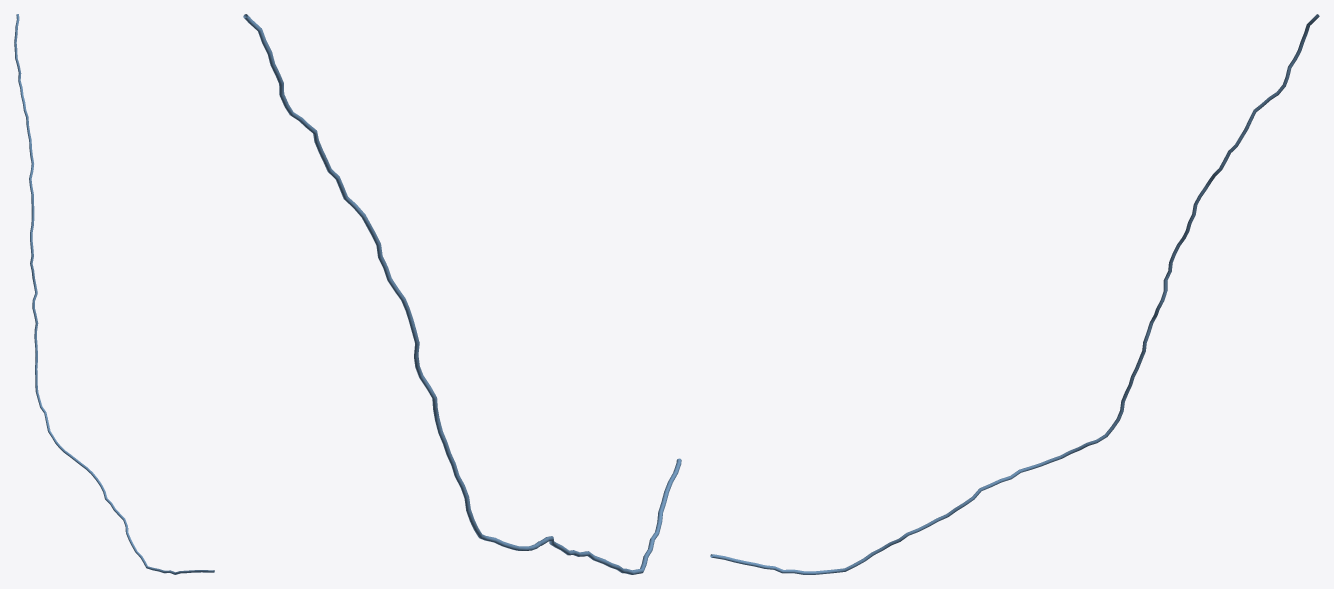
Rendered from sweep212.fbx.
The picture shows the model from 3 angles, left to right: view 1: azimuth 30°, elevation 25°; view 2: azimuth 150°, elevation 25°; view 3: azimuth 270°, elevation 25°; orthographic projection. The views are drawn at different scales.
Visible parts, largest first — view 1: sweep212; view 2: sweep212; view 3: sweep212.
Boxes of the visible parts, x1=… form: sweep212: x1=14, y1=14, x2=214, y2=574; sweep212: x1=243, y1=14, x2=681, y2=574; sweep212: x1=710, y1=14, x2=1319, y2=574.
Size of the model in its own units: 0.5027 by 3.41 by 3.2.
